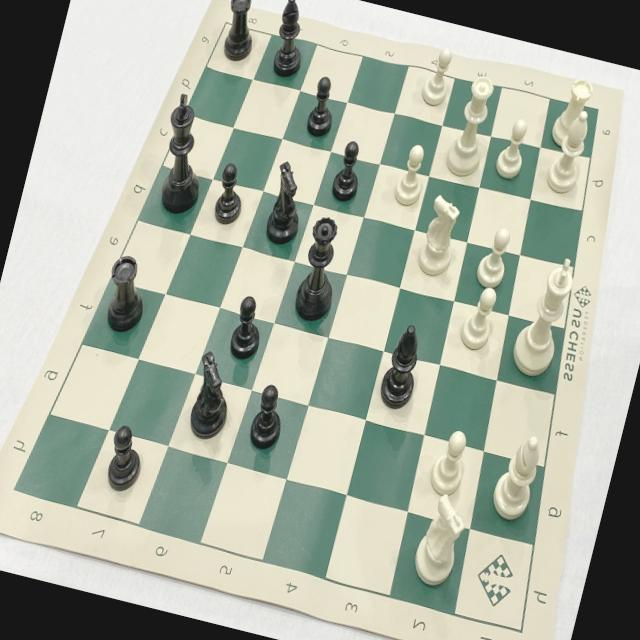black-bishop: (371, 314, 432, 416), (264, 0, 318, 82)
black-king: (146, 86, 224, 222)
black-knight: (176, 342, 243, 448), (257, 155, 315, 252)
black-pawn: (100, 418, 155, 499), (224, 290, 274, 368), (298, 67, 346, 145), (244, 378, 290, 455), (206, 158, 252, 233), (324, 134, 371, 207)
black-queen: (286, 210, 354, 330)
black-rook: (96, 245, 160, 339), (213, 0, 266, 70)
white-bishop: (484, 424, 551, 528), (540, 102, 596, 198)
white-king: (500, 244, 586, 384)
white-knight: (405, 486, 472, 592), (408, 188, 470, 286)
white-pawn: (454, 280, 506, 360), (424, 422, 476, 500), (414, 38, 462, 114), (388, 136, 435, 213), (489, 111, 536, 185), (472, 220, 518, 293)
white-queen: (437, 65, 503, 184)
white-rook: (547, 68, 598, 154)
